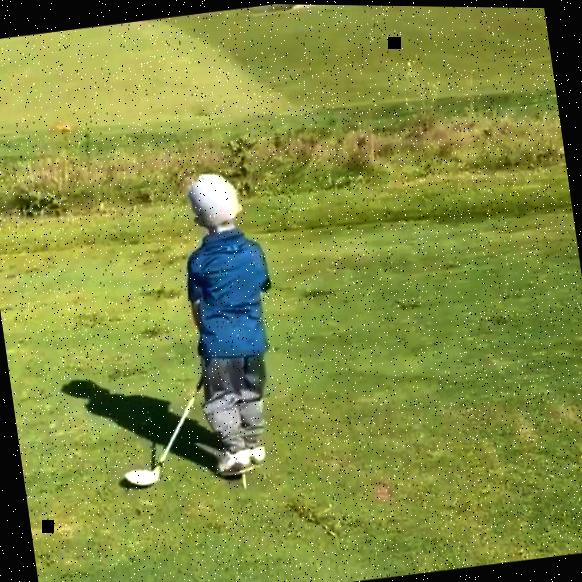ClubHead: (123, 466, 157, 492)
